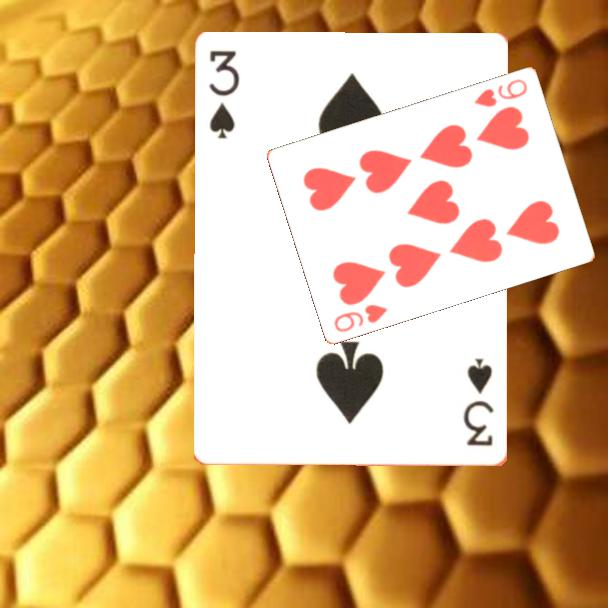h09: (330, 300, 391, 335), (470, 75, 530, 110)
s03: (460, 355, 497, 449), (206, 47, 241, 142)
